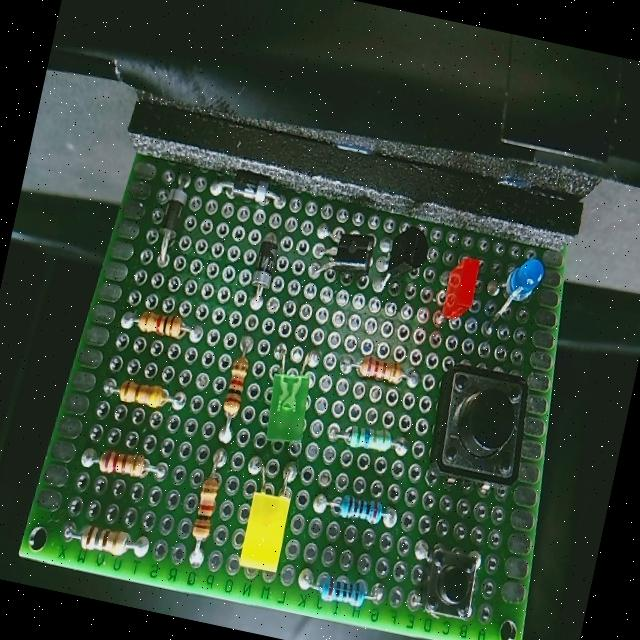led: (234, 481, 300, 576), (256, 364, 316, 456), (424, 252, 484, 337), (497, 246, 548, 312)
resistor: (58, 512, 159, 572), (300, 565, 393, 622), (78, 439, 168, 494), (318, 481, 394, 540), (98, 368, 185, 418), (119, 301, 204, 350), (183, 467, 228, 550), (331, 412, 401, 463), (214, 348, 259, 423), (352, 346, 414, 396)
switch: (418, 354, 544, 498), (408, 533, 502, 630)
transistor: (144, 172, 200, 266), (316, 216, 382, 286), (379, 220, 434, 290), (217, 166, 291, 214), (242, 228, 288, 302)
